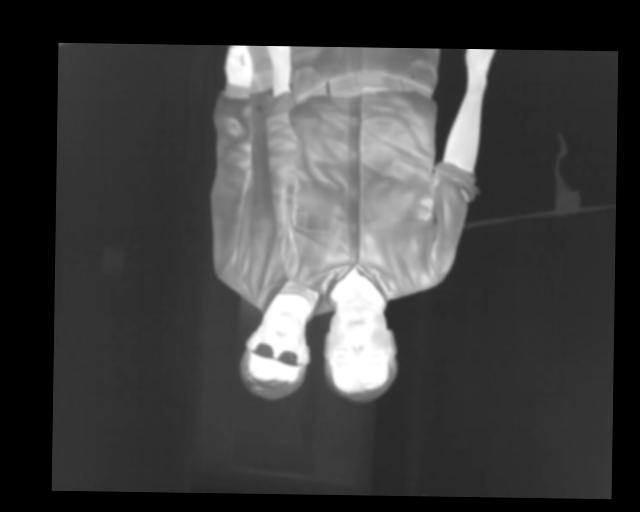face: (320, 298, 399, 404), (240, 312, 311, 401)
